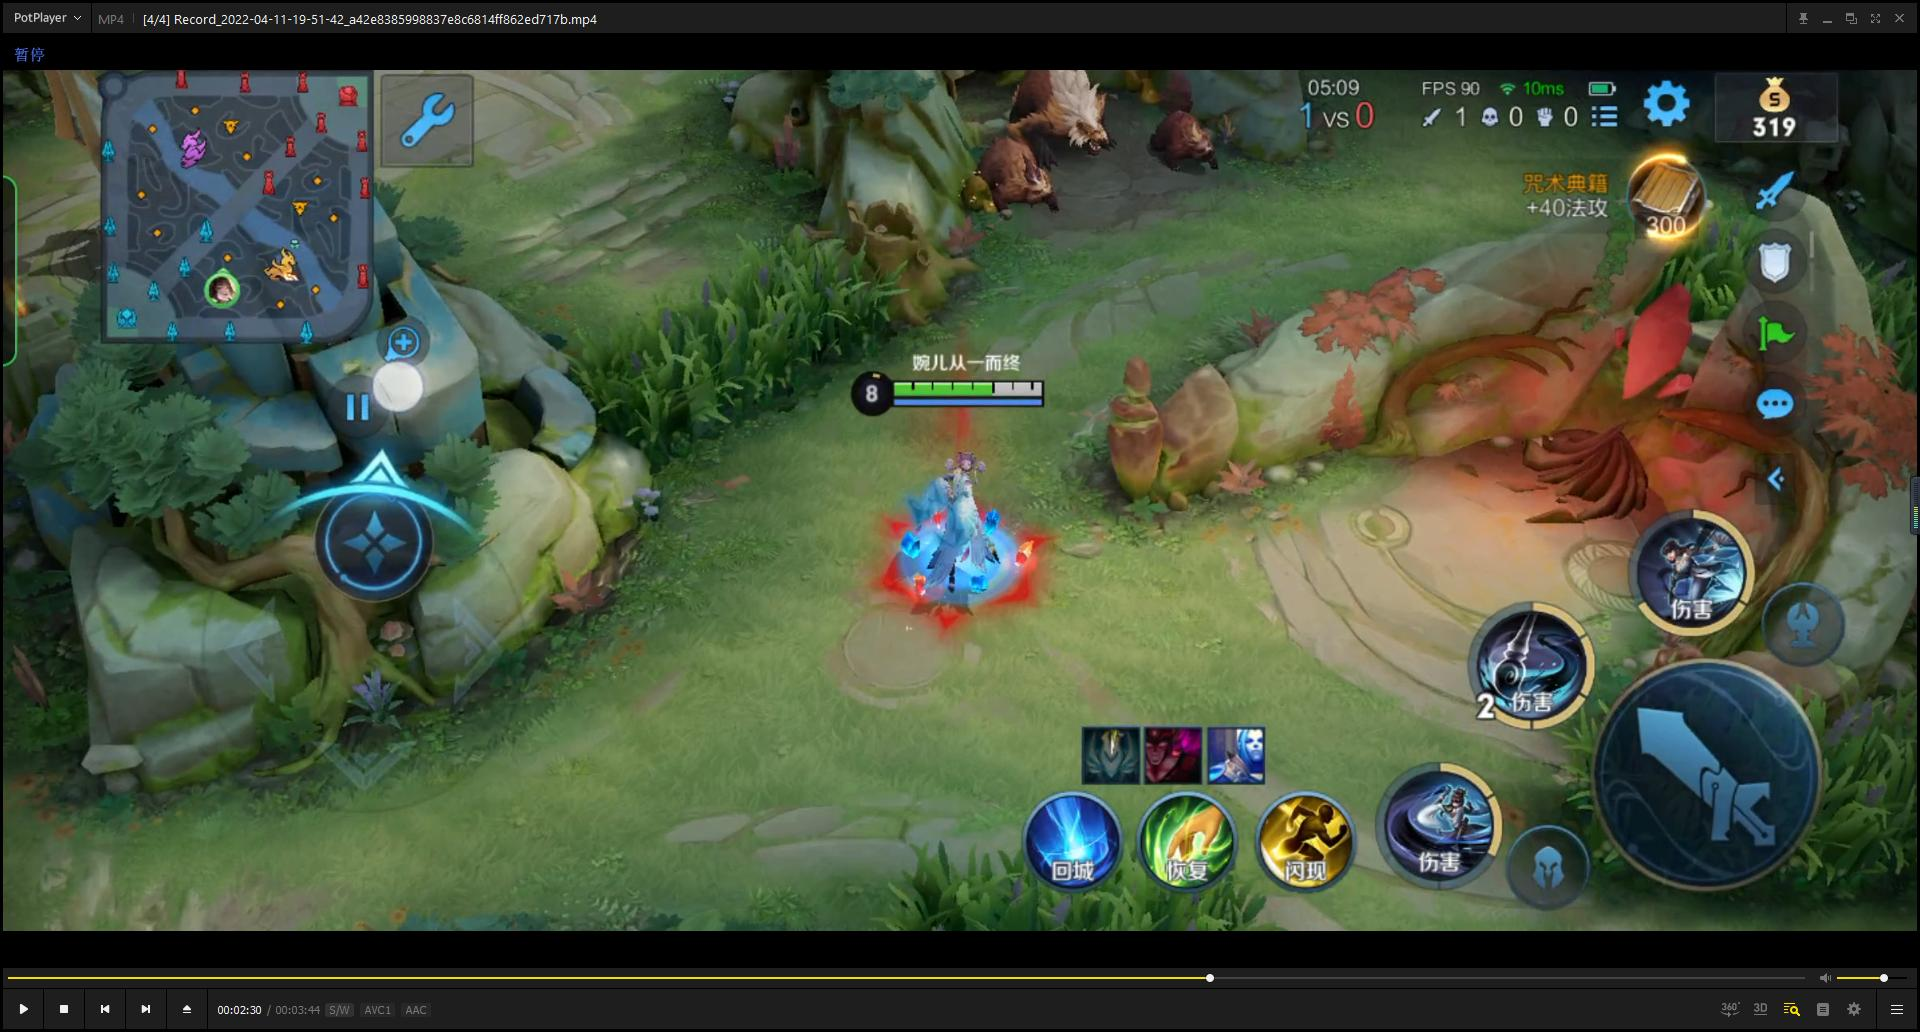Hero: (860, 445, 1067, 632)
Pig: (964, 123, 1078, 240), (995, 66, 1125, 168), (1126, 93, 1250, 182)
